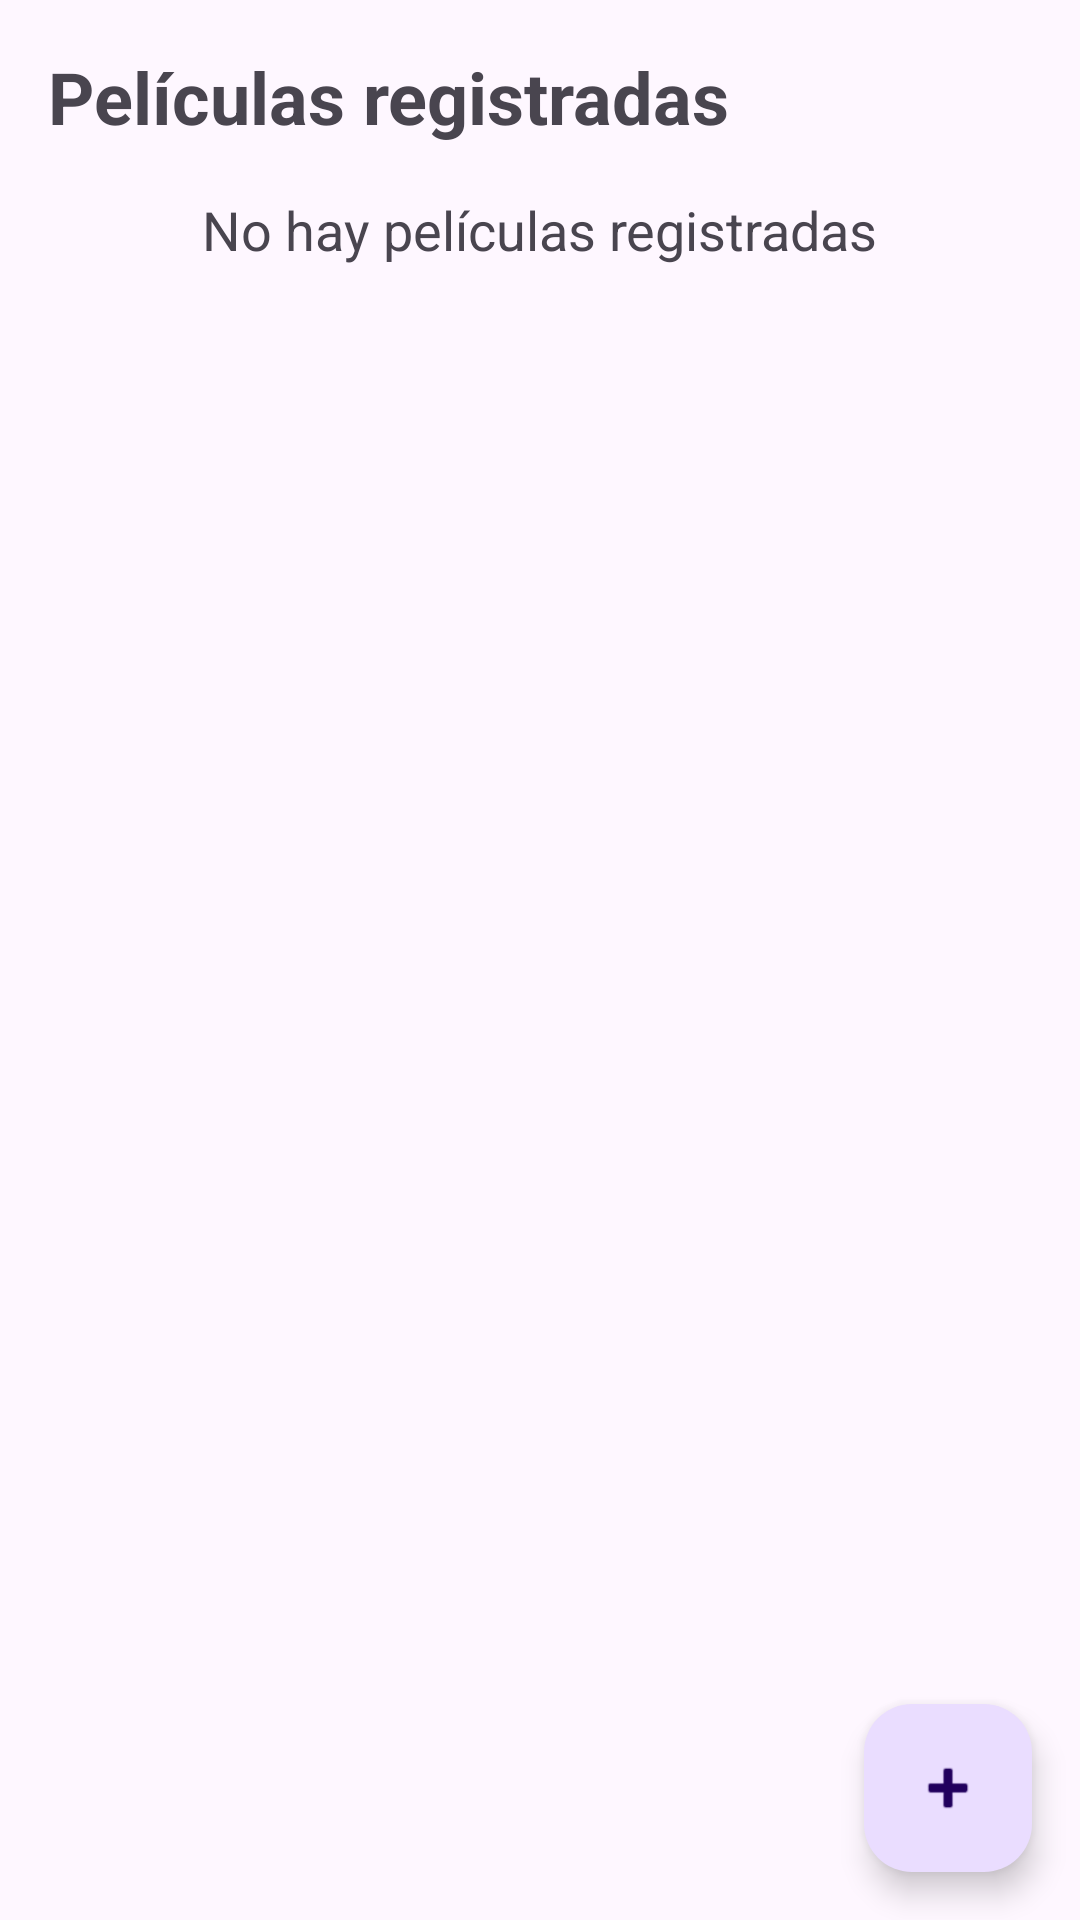

Where to tap for icons on this 1080w x 1920h app screen, as [x,y]:
Agregar: [948,1788]
